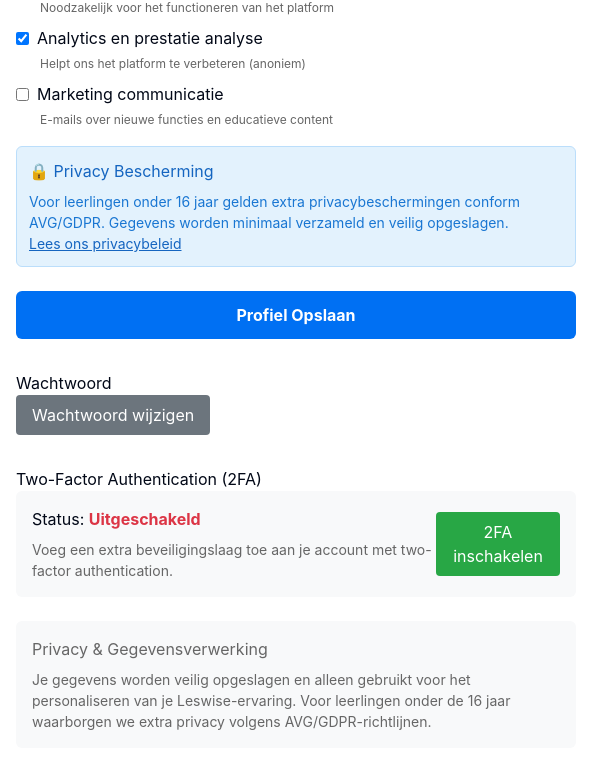
Test: UserProfile › toont wachtwoord formulier wanneer wijzig knop wordt geklikt
(page scrolled)
Click the button "Wachtwoord wijzigen": (113,415) [16,395,210,435]
(page scrolled)
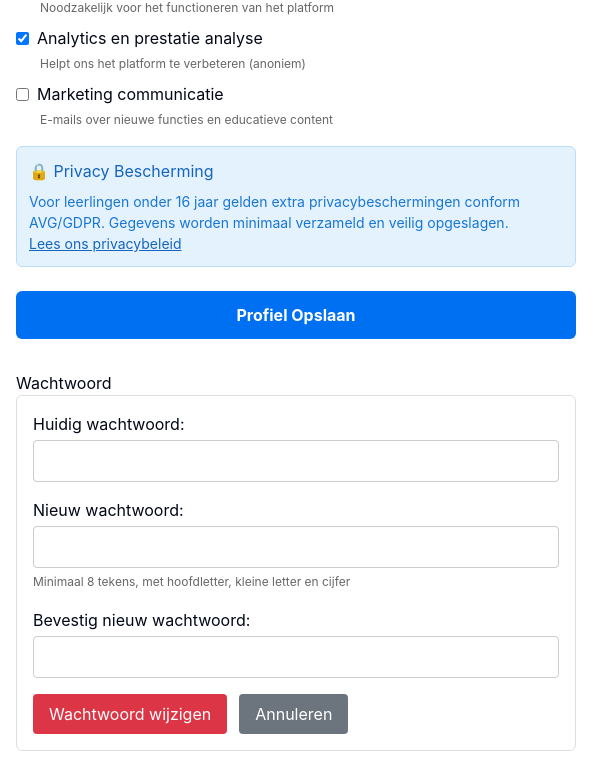
Check: the password field labelled "Huidig wachtwoord:" is shown, box [33,440,559,482]
Check: the password field labelled "Nieuw wachtwoord:" is shown, box [33,526,559,568]
Check: the password field labelled "Bevestig nieuw wachtwoord:" is shown, box [33,636,559,678]
